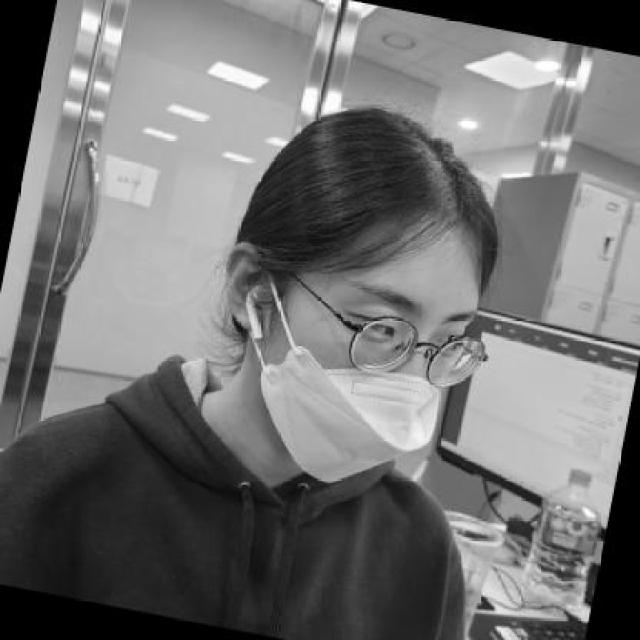earphone: (207, 280, 302, 352)
